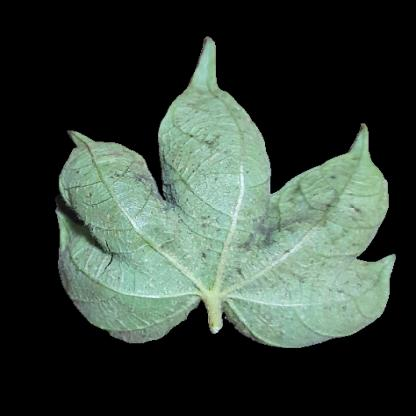curl_stage2: (100, 210, 185, 293), (72, 278, 183, 328), (175, 152, 272, 205), (190, 250, 258, 319), (321, 243, 378, 320), (71, 158, 119, 249), (263, 272, 324, 338), (327, 163, 382, 228), (189, 86, 243, 151)
sooty: (227, 207, 317, 249)
